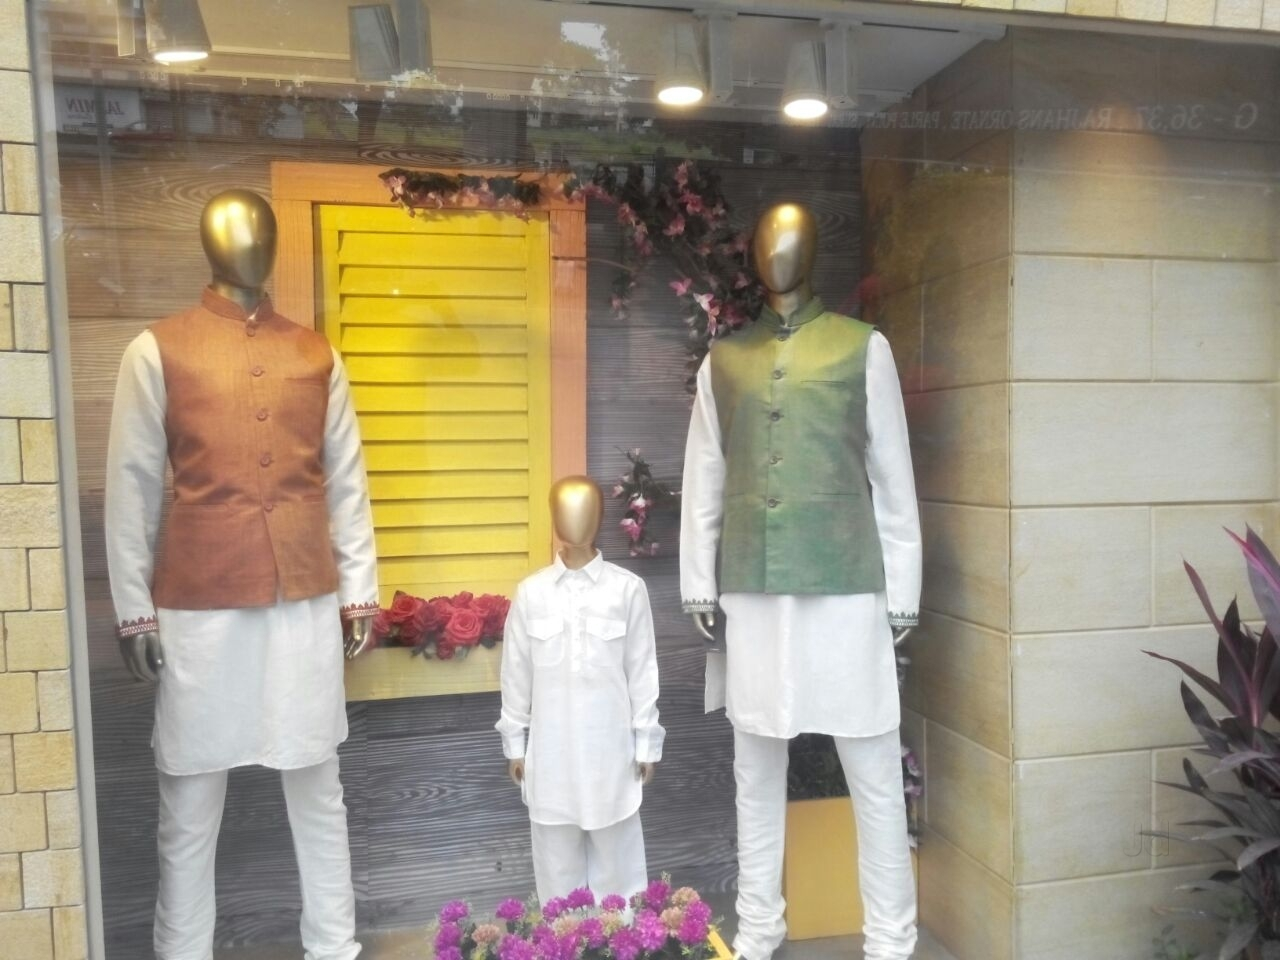person-like: (96, 182, 387, 957), (674, 194, 938, 960), (491, 471, 670, 909)
